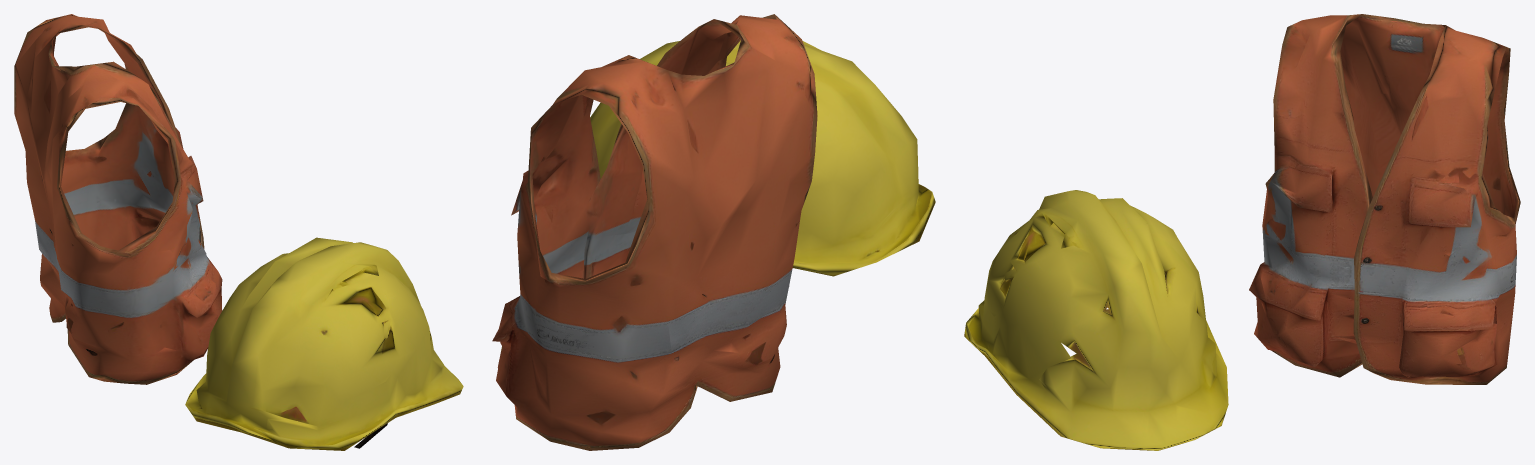
3 renders of one model, left to right at view 1: azimuth 30°, elevation 25°; view 2: azimuth 150°, elevation 25°; view 3: azimuth 270°, elevation 25°, orthographic. The views are drawn at different scales.
Parts seen in each view (by area): view 1: tripo_node_3c1b2eec-92fe-4e2a-bfd3-3344ca6cf426; view 2: tripo_node_3c1b2eec-92fe-4e2a-bfd3-3344ca6cf426; view 3: tripo_node_3c1b2eec-92fe-4e2a-bfd3-3344ca6cf426.
Boxes of the visible parts, x1,y1,x2,y2 form: tripo_node_3c1b2eec-92fe-4e2a-bfd3-3344ca6cf426: (14, 14, 463, 450); tripo_node_3c1b2eec-92fe-4e2a-bfd3-3344ca6cf426: (492, 14, 935, 450); tripo_node_3c1b2eec-92fe-4e2a-bfd3-3344ca6cf426: (964, 14, 1520, 450).
Bounding box in the file's own units: 0.6542 × 0.6273 × 1.
1 material, 1 textured.
